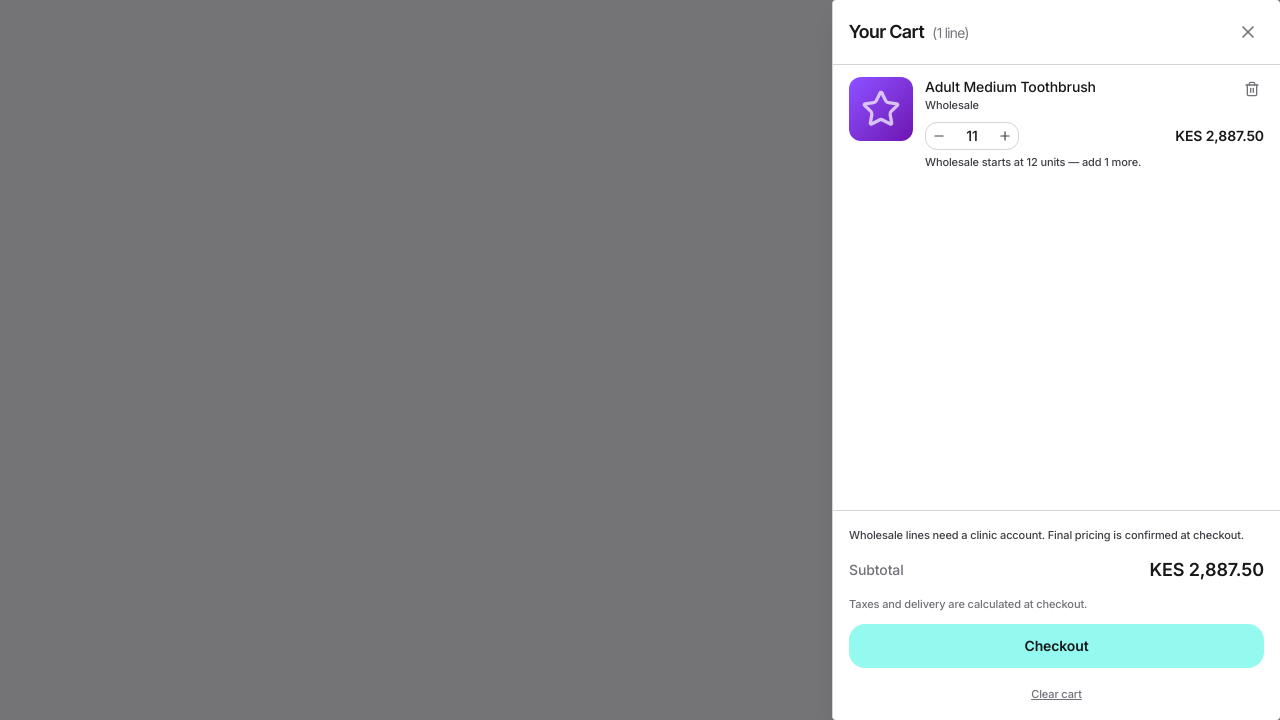
Test: CartDrawer › drops the minimum warning once the quantity reaches it
The width and height of the screenshot is (1280, 720).
Expected: the text "Wholesale starts at 12 units — add 1 more." is shown, [925, 154, 1141, 168]
Click the button named "Increase Adult Medium Toothbrush quantity" at x=1005, y=136, box [992, 122, 1018, 148]
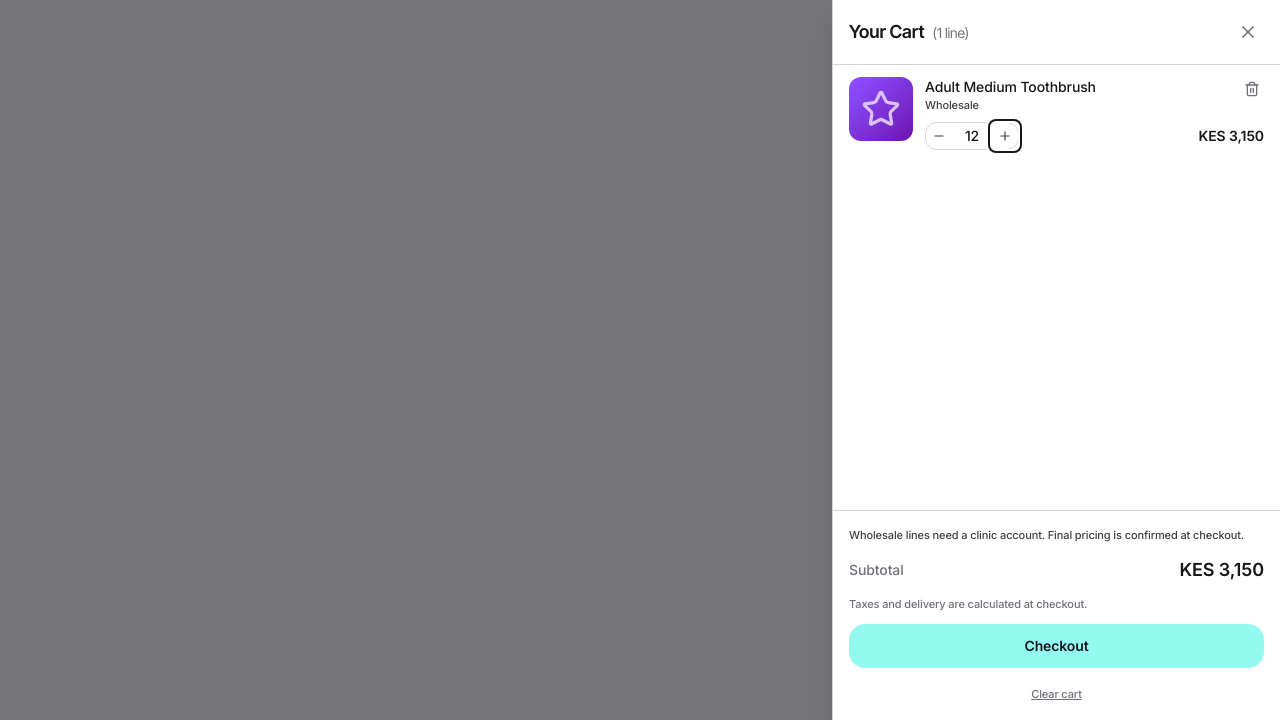
Now the text "Wholesale starts at" is gone
